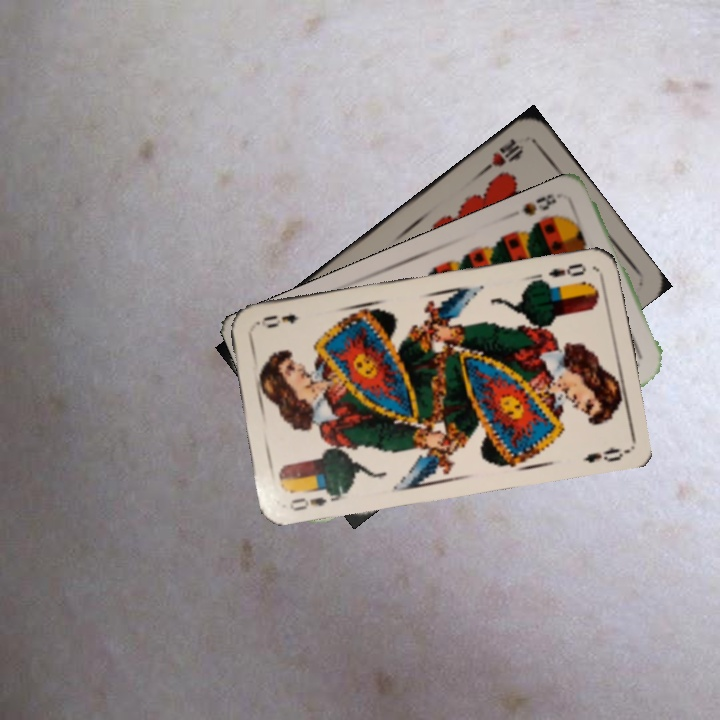EO: (285, 484, 341, 514), (545, 259, 589, 280)
H10: (477, 134, 526, 176)
S8: (519, 189, 559, 219)
